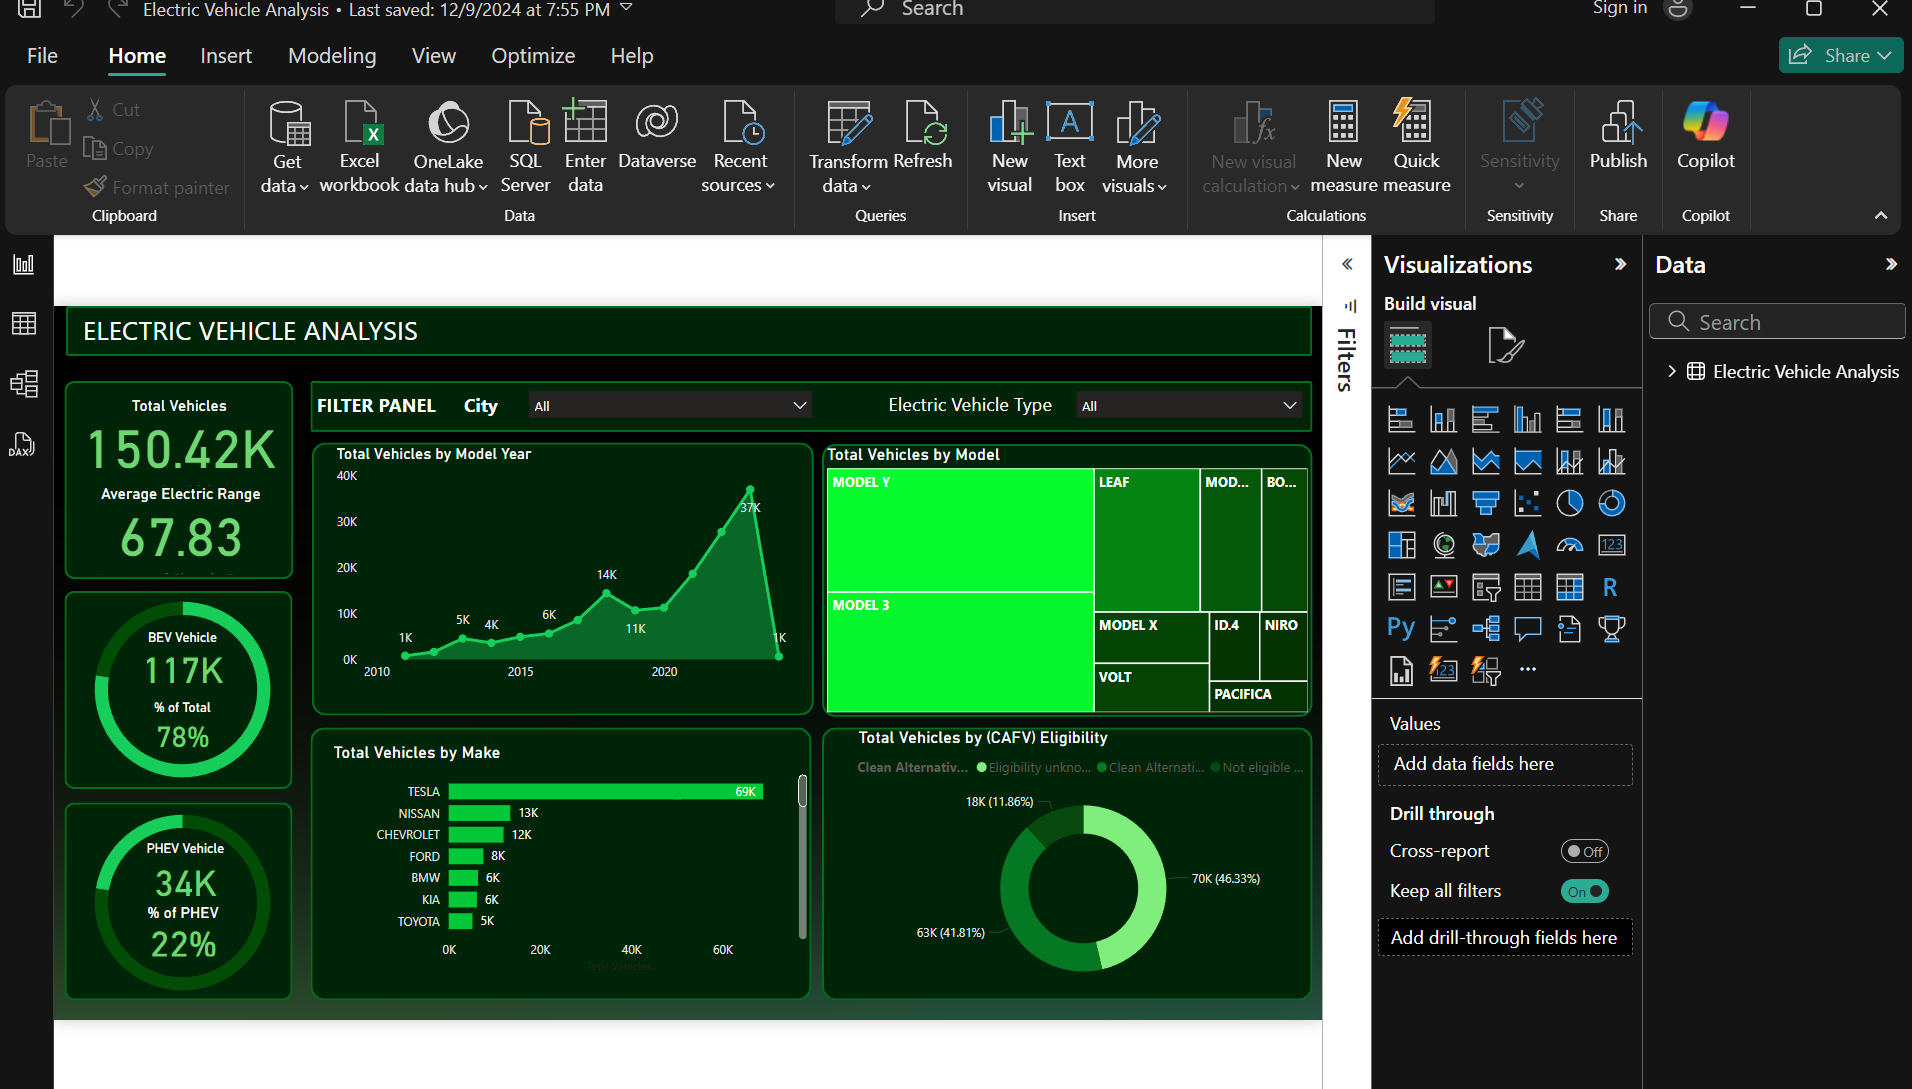

The dashboard page shown, as its layout file describes it:
{"tool":"powerbi","page":{"name":"Page 1","canvas":[1280,720],"ordinal":0},"visuals":[{"type":"shape","box":[12.2,0,1258.1,50.5],"z":0},{"type":"textbox","box":[24.5,0,356.4,50.4],"z":1000},{"type":"shape","box":[10.6,75.7,231,200],"z":2000},{"type":"card","title":"Total Vehicles","fields":{"Values":["Electric_Vehicle_Population_Data.Total Vehicles"]},"box":[10.6,90.9,231.7,95.4],"z":3000},{"type":"card","title":"Average Electric Range","fields":{"Values":["Avg(Electric_Vehicle_Population_Data.Electric Range)"]},"box":[12.1,180.2,231.7,95.4],"z":4000},{"type":"shape","box":[10.6,287.7,230.2,199.9],"z":5000},{"type":"shape","box":[10.6,501.2,230.2,199.9],"z":6000},{"type":"donutChart","fields":{"Y":["Electric_Vehicle_Population_Data.Total Vehicles"],"Category":["Electric_Vehicle_Population_Data.Electric Vehicle Type"]},"box":[0,271,258.9,231.7],"z":7000},{"type":"card","title":"BEV Vehicle","fields":{"Values":["Electric_Vehicle_Population_Data.BEV Vehicles"]},"box":[62.1,327.1,134.8,60.6],"z":8000},{"type":"card","title":"% of Total","fields":{"Values":["Electric_Vehicle_Population_Data.% of BEV"]},"box":[62.1,398.2,134.8,54.5],"z":9000},{"type":"donutChart","fields":{"Y":["Electric_Vehicle_Population_Data.Total Vehicles"],"Category":["Electric_Vehicle_Population_Data.Electric Vehicle Type"]},"box":[0,486.1,258.9,231.7],"z":10000},{"type":"card","title":"PHEV Vehicle","fields":{"Values":["Electric_Vehicle_Population_Data.PHEV Vehicle"]},"box":[68.1,540.6,128.7,62.1],"z":11000},{"type":"card","title":"% of PHEV","fields":{"Values":["Electric_Vehicle_Population_Data.% of PHEV"]},"box":[84.8,602.7,90.9,59.1],"z":12000},{"type":"shape","box":[258.9,75.7,1011.5,51.5],"z":13000},{"type":"shape","box":[260.2,137.7,506.6,275.5],"z":14000},{"type":"areaChart","fields":{"Category":["Electric_Vehicle_Population_Data.Model Year"],"Y":["Electric_Vehicle_Population_Data.Total Vehicles"]},"box":[280.1,139.3,469.4,248.3],"z":15000},{"type":"shape","box":[258.9,425.5,505.7,275.6],"z":16000},{"type":"clusteredBarChart","fields":{"Category":["Electric_Vehicle_Population_Data.Make"],"Y":["Electric_Vehicle_Population_Data.Total Vehicles"]},"box":[277.1,440.6,487.6,236.2],"z":17000},{"type":"shape","box":[775.3,425.5,495.1,275.6],"z":18000},{"type":"donutChart","title":"Total Vehicles by (CAFV) Eligibility","fields":{"Category":["Electric_Vehicle_Population_Data.Clean Alternative Fuel Vehicle (CAFV) Eligibility"],"Y":["Electric_Vehicle_Population_Data.Total Vehicles"]},"box":[807.1,425.5,463.3,275.6],"z":19000},{"type":"shape","box":[775.3,139.3,495.1,275.6],"z":20000},{"type":"treemap","fields":{"Group":["Electric_Vehicle_Population_Data.Model"],"Values":["Electric_Vehicle_Population_Data.Total Vehicles"]},"box":[775.3,139.3,495.1,275.6],"z":21000},{"type":"textbox","box":[260.2,81.1,148.5,39.8],"z":22001},{"type":"slicer","fields":{"Values":["Electric_Vehicle_Population_Data.City"]},"box":[469.9,75,306.1,50.5],"z":22002},{"type":"textbox","box":[408.6,81.1,61.2,39.8],"z":22003},{"type":"slicer","fields":{"Values":["Electric_Vehicle_Population_Data.Electric Vehicle Type"]},"box":[1022.4,75,247.9,50.5],"z":22004},{"type":"textbox","box":[837.2,79.6,185.2,41.3],"z":22005}]}

Visuals, with their boxes on the page's 1280x720 design canvas (x1, y1, x2, y2). These are canvas units, not pixel positions in the 1912x1089 screenshot, which may show the page scaled, cropped or inside an application window:
shape: bbox=(12, 0, 1270, 50)
textbox: bbox=(24, 0, 381, 50)
shape: bbox=(11, 76, 242, 276)
"Total Vehicles" card: bbox=(11, 91, 242, 186)
"Average Electric Range" card: bbox=(12, 180, 244, 276)
shape: bbox=(11, 288, 241, 488)
shape: bbox=(11, 501, 241, 701)
donutChart - Electric_Vehicle_Population_Data.Total Vehicles x Electric_Vehicle_Population_Data.Electric Vehicle Type: bbox=(0, 271, 259, 503)
"BEV Vehicle" card: bbox=(62, 327, 197, 388)
"% of Total" card: bbox=(62, 398, 197, 453)
donutChart - Electric_Vehicle_Population_Data.Total Vehicles x Electric_Vehicle_Population_Data.Electric Vehicle Type: bbox=(0, 486, 259, 718)
"PHEV Vehicle" card: bbox=(68, 541, 197, 603)
"% of PHEV" card: bbox=(85, 603, 176, 662)
shape: bbox=(259, 76, 1270, 127)
shape: bbox=(260, 138, 767, 413)
areaChart - Electric_Vehicle_Population_Data.Model Year x Electric_Vehicle_Population_Data.Total Vehicles: bbox=(280, 139, 750, 388)
shape: bbox=(259, 426, 765, 701)
clusteredBarChart - Electric_Vehicle_Population_Data.Make x Electric_Vehicle_Population_Data.Total Vehicles: bbox=(277, 441, 765, 677)
shape: bbox=(775, 426, 1270, 701)
"Total Vehicles by (CAFV) Eligibility" donutChart: bbox=(807, 426, 1270, 701)
shape: bbox=(775, 139, 1270, 415)
treemap - Electric_Vehicle_Population_Data.Model x Electric_Vehicle_Population_Data.Total Vehicles: bbox=(775, 139, 1270, 415)
textbox: bbox=(260, 81, 409, 121)
slicer - Electric_Vehicle_Population_Data.City: bbox=(470, 75, 776, 126)
textbox: bbox=(409, 81, 470, 121)
slicer - Electric_Vehicle_Population_Data.Electric Vehicle Type: bbox=(1022, 75, 1270, 126)
textbox: bbox=(837, 80, 1022, 121)
